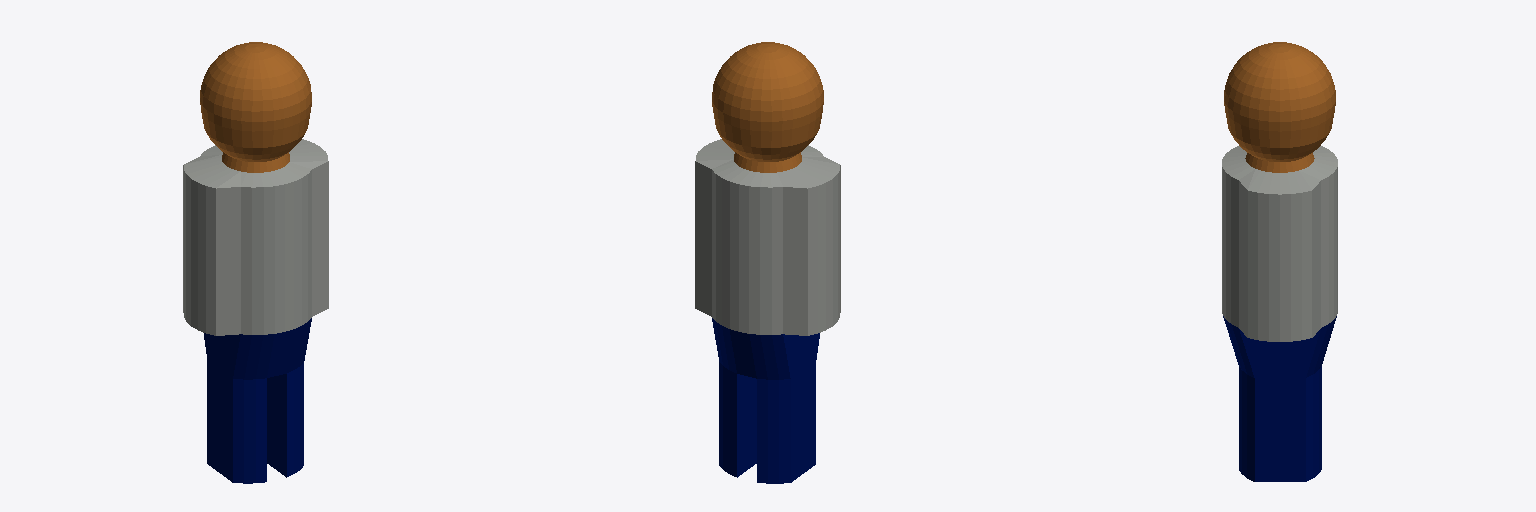
The model's file is Pedestrian.obj.
The picture shows the model from 3 angles: view 1: azimuth 30°, elevation 25°; view 2: azimuth 150°, elevation 25°; view 3: azimuth 270°, elevation 25°; orthographic projection.
Visible parts, largest first — view 1: pedestrian_Sphere; view 2: pedestrian_Sphere; view 3: pedestrian_Sphere.
Boxes of the visible parts, box(x1,y1,x2,y2) form: pedestrian_Sphere: box(183, 42, 328, 483); pedestrian_Sphere: box(695, 42, 840, 483); pedestrian_Sphere: box(1222, 42, 1337, 481).
Size of the model in its own units: 0.7291 by 2.24 by 0.5685.